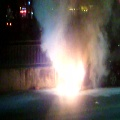fire: (54, 55, 84, 97)
